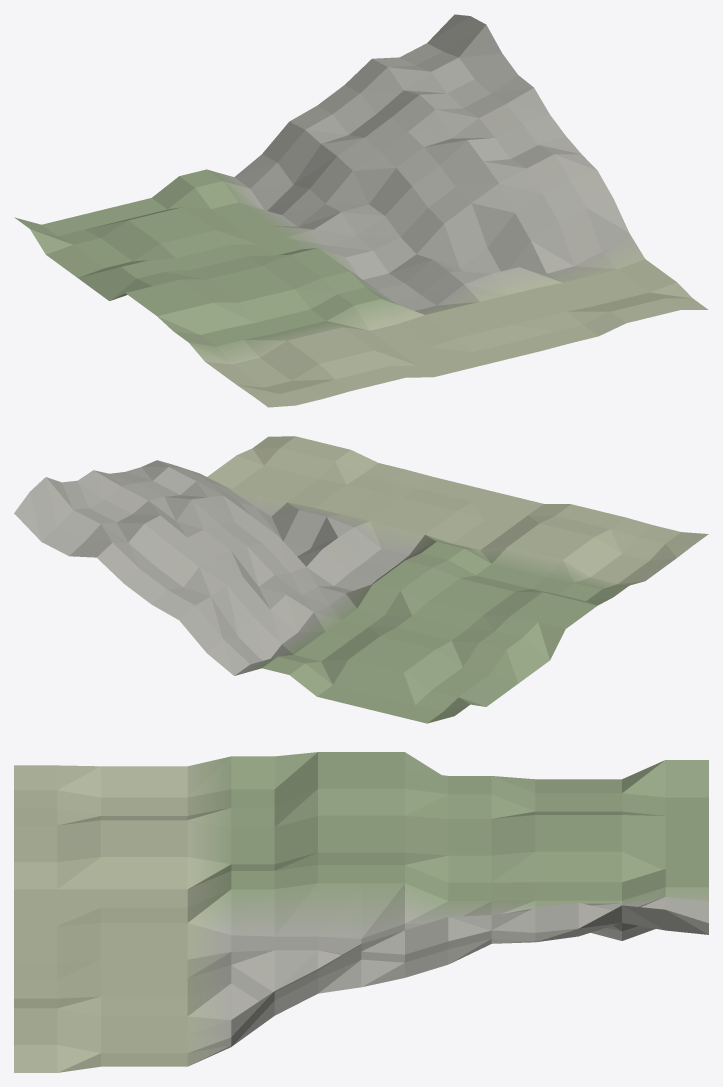
3 renders of one model, top to bottom at view 1: azimuth 30°, elevation 25°; view 2: azimuth 150°, elevation 25°; view 3: azimuth 270°, elevation 25°, orthographic. The views are drawn at different scales.
Size of the model in its own units: 32 by 9.28 by 32.
